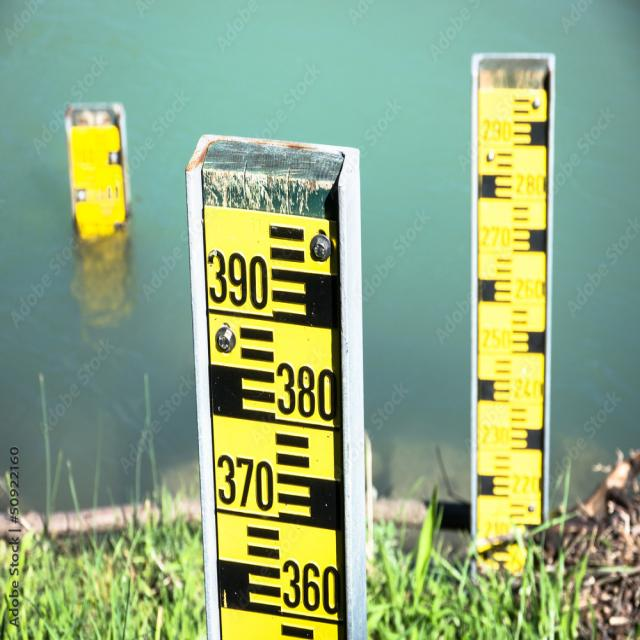ruler: (180, 122, 376, 640), (464, 40, 555, 588)
value: (273, 347, 341, 431), (205, 237, 272, 316), (208, 449, 282, 520), (274, 549, 344, 621)
